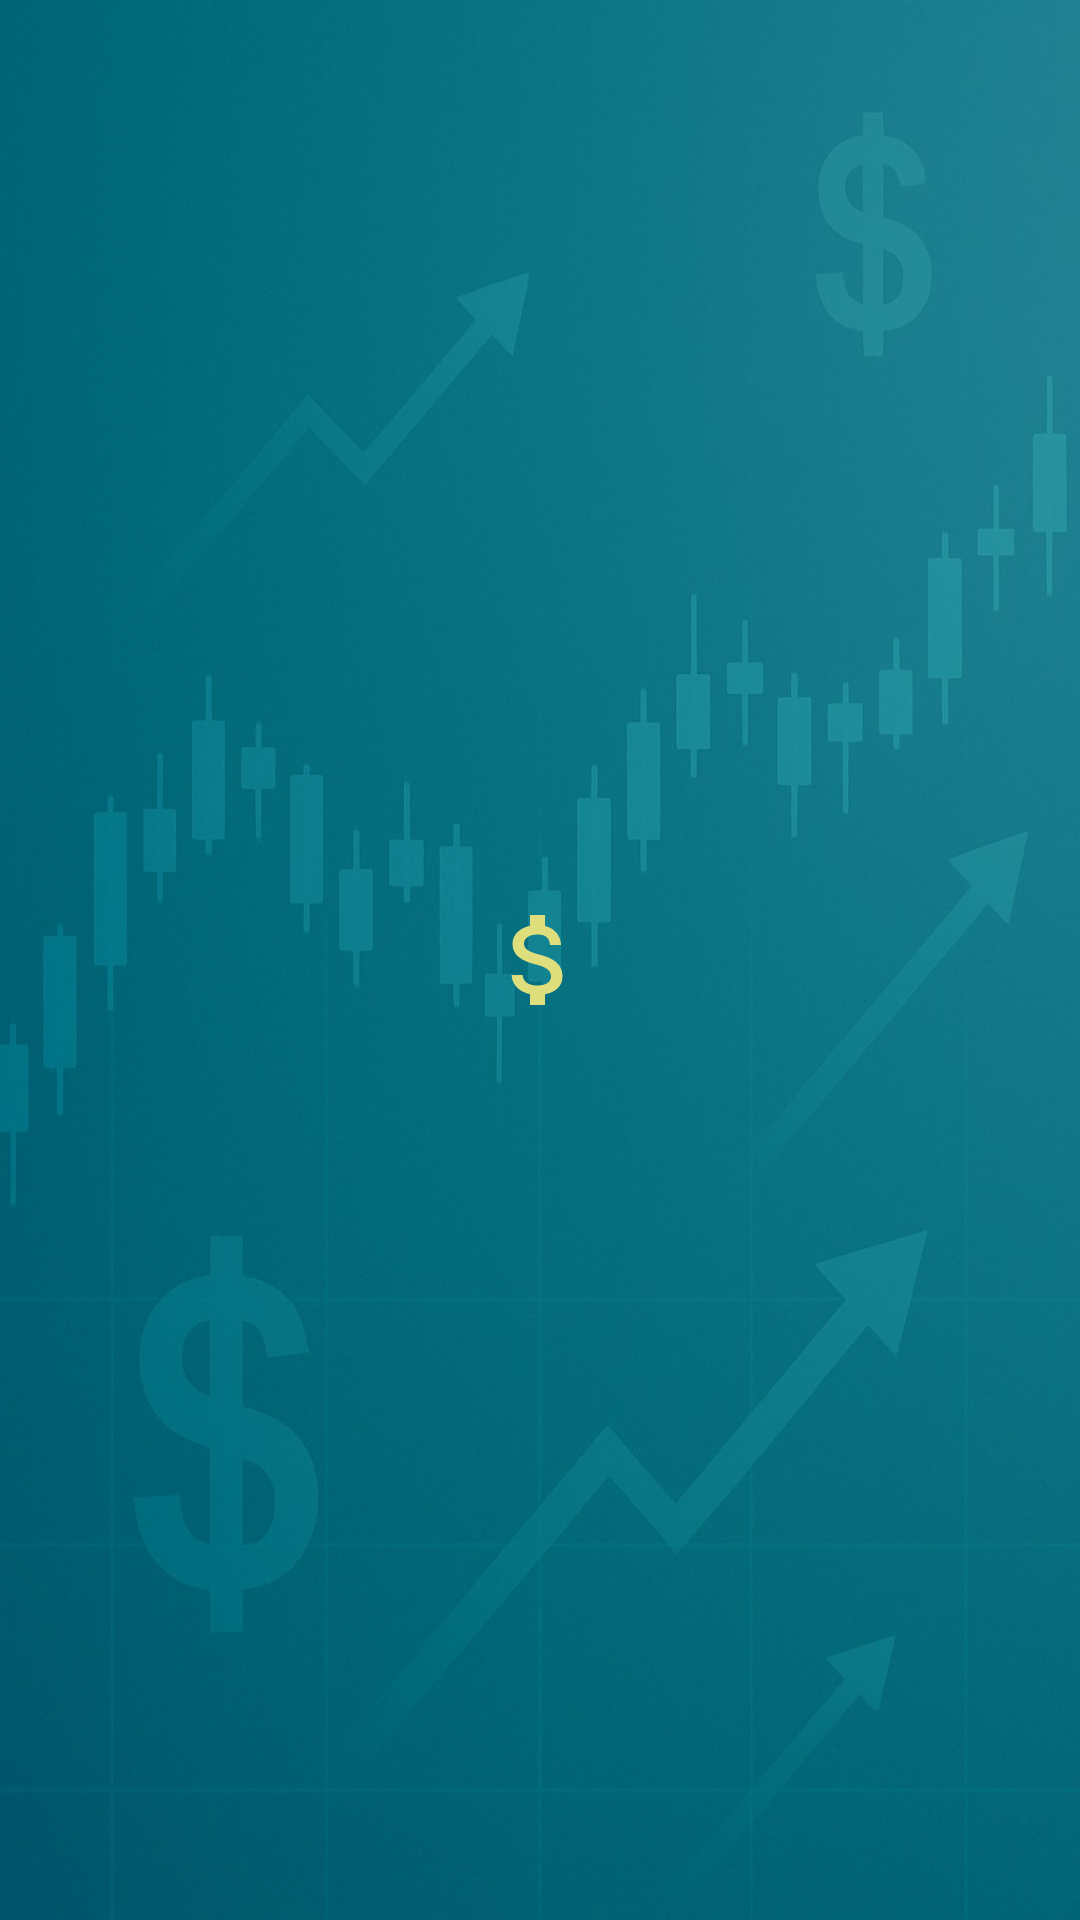

Screen size 1080×1920. Icon name, then its center in pixels as point (x, y):
attach money: point (554, 959)
